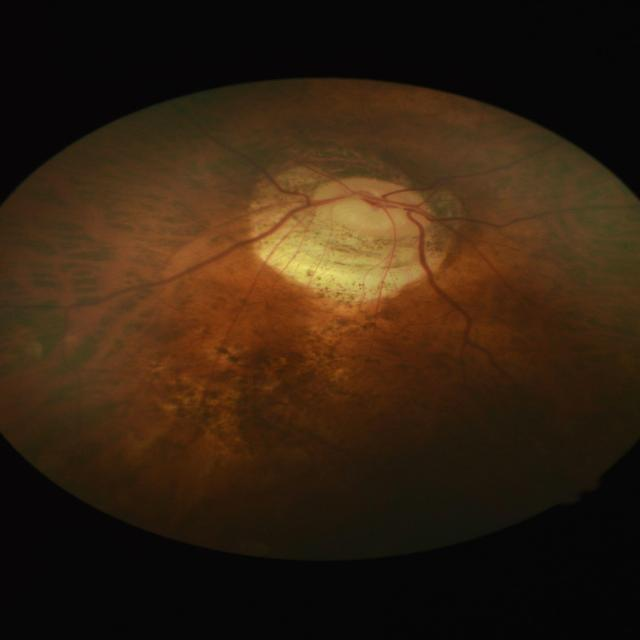cup: (318, 182, 416, 225)
disk: (313, 176, 440, 237)
